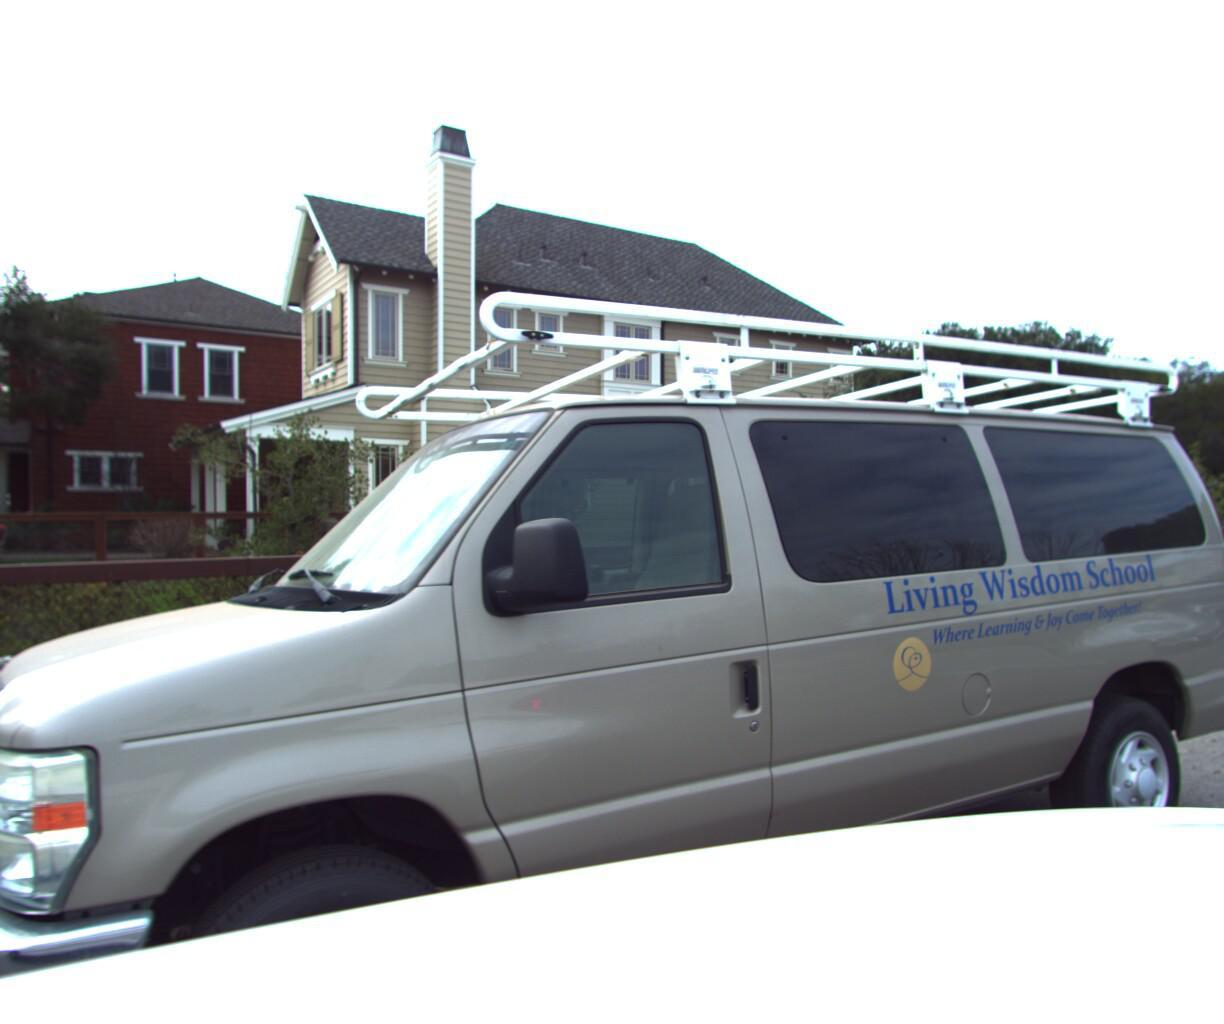car: (0, 159, 1224, 1024)
